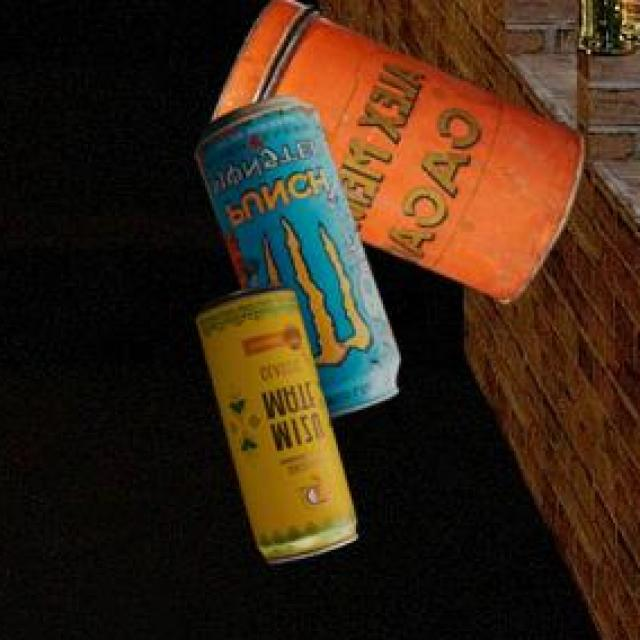logam: (211, 0, 580, 308), (193, 100, 395, 423), (193, 287, 355, 567)
